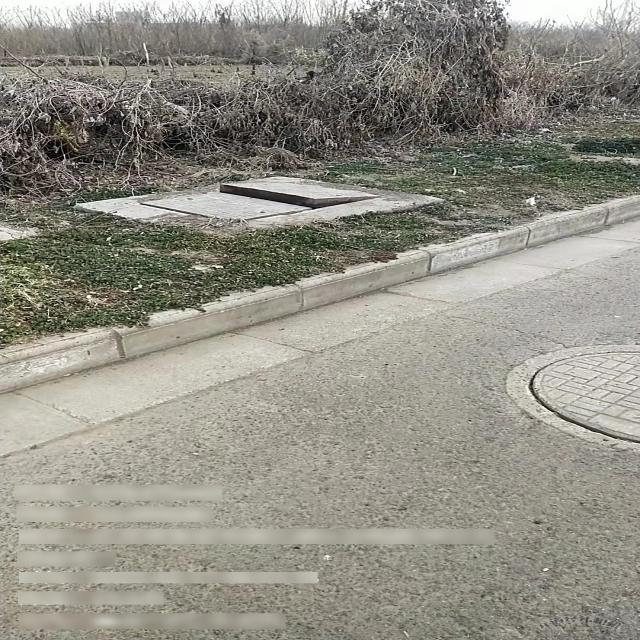Faulty: (136, 174, 372, 224)
Good: (506, 346, 640, 456)
